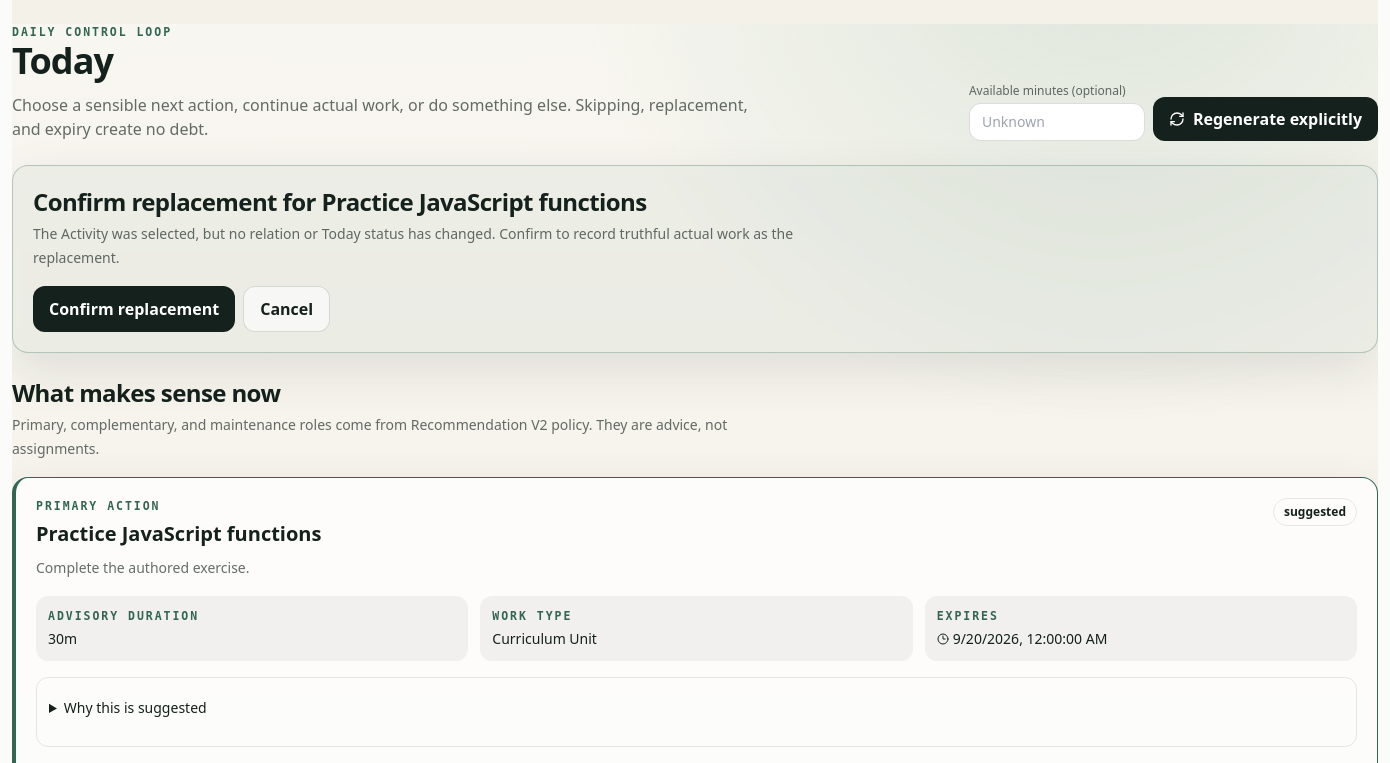
Scenario: Today daily control loop › preserves replacement confirmation after failure and supports an explicit retry
Click the button "Confirm replacement" at (134, 309), box [33,286,235,332]
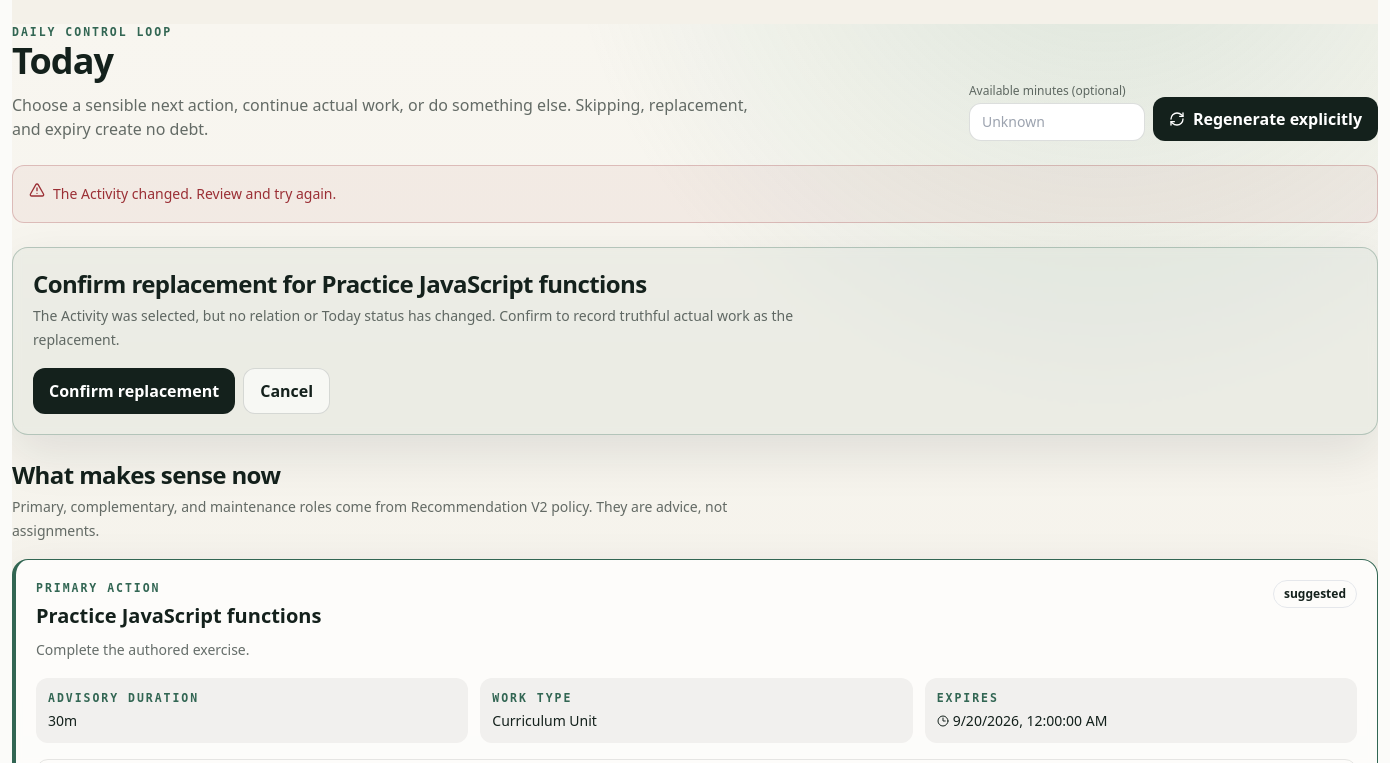
Expected: the heading "Confirm replacement for Practice JavaScript functions" is shown, [33,267,646,300]
Now the text "The Activity changed. Review and try again." is shown, box [12,165,1378,223]
Click the button "Confirm replacement" at (134, 391), box [33,368,235,414]
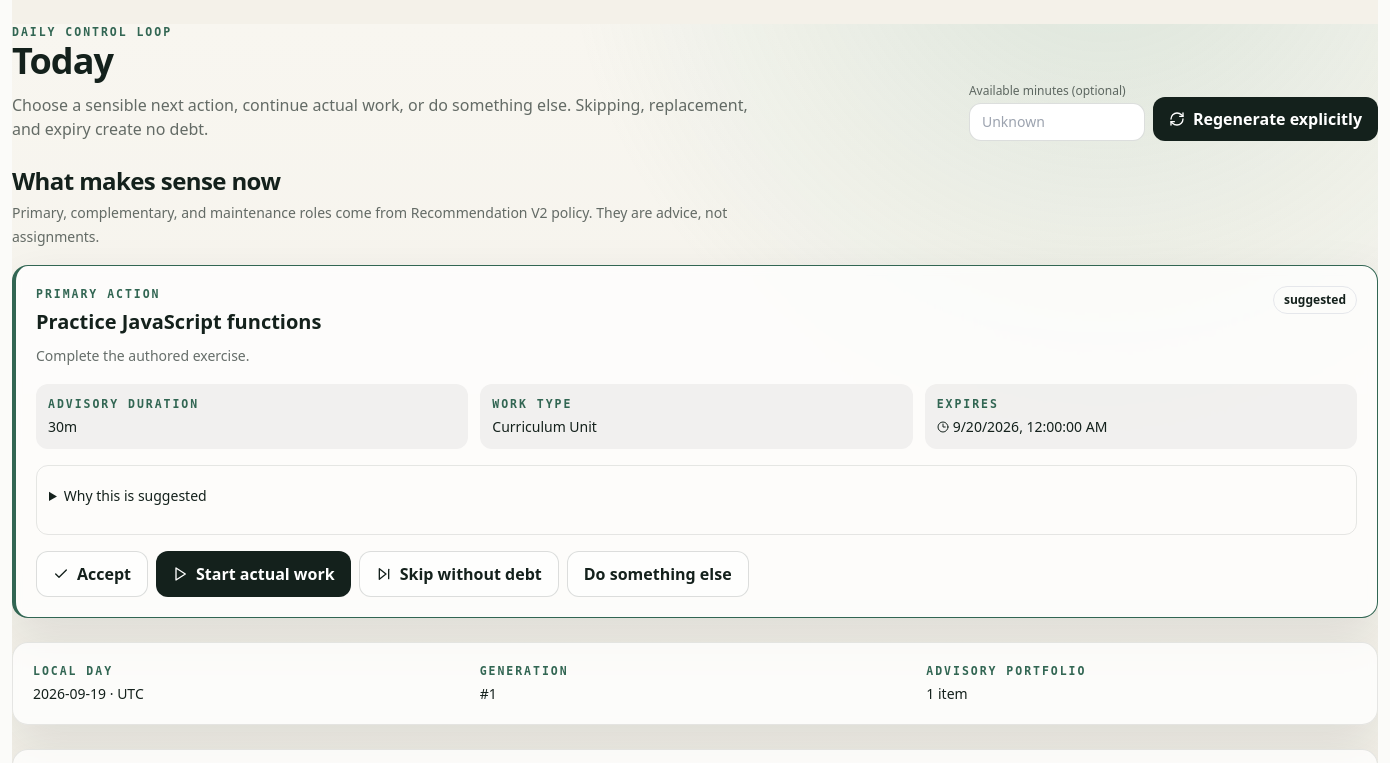
Now the heading "Confirm replacement for Practice JavaScript functions" is gone
